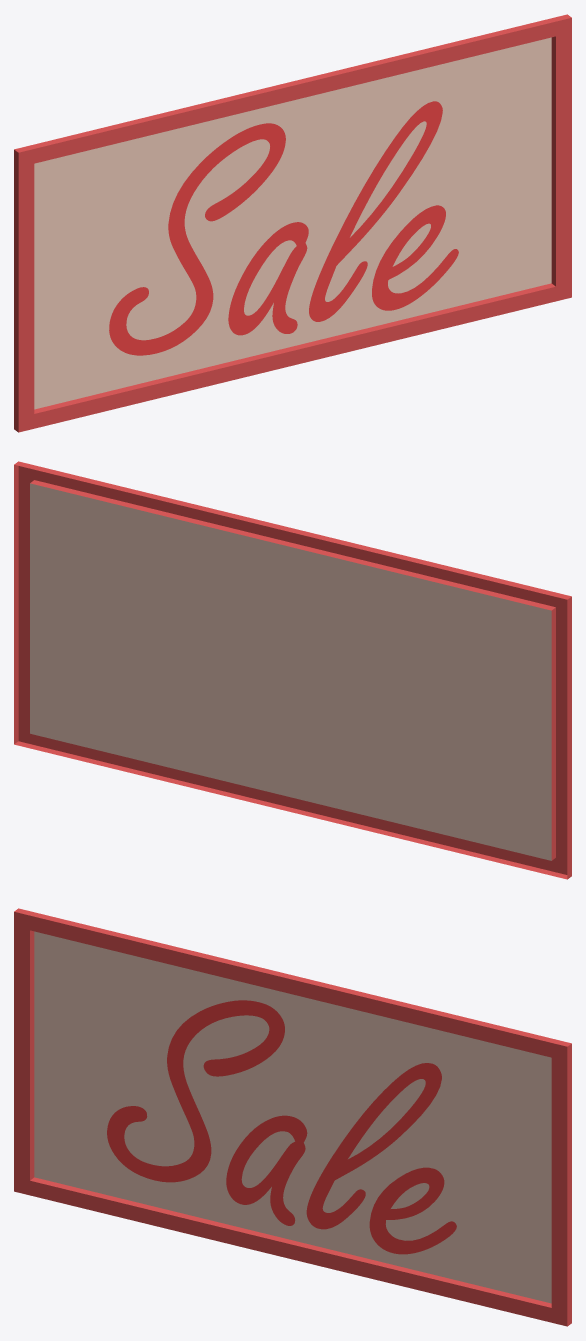
Rendered from Sign_Sale.fbx.
3 views of the same model, one above another, from view 1: azimuth 30°, elevation 25°; view 2: azimuth 150°, elevation 25°; view 3: azimuth 330°, elevation 25° (orthographic).
Parts seen in each view (by area): view 1: Sign_Sale; view 2: Sign_Sale; view 3: Sign_Sale.
Part boxes in pixels (bbox=[...]): Sign_Sale: bbox=[14, 14, 571, 432]; Sign_Sale: bbox=[14, 461, 571, 879]; Sign_Sale: bbox=[14, 908, 571, 1326].
Bounding box in the file's own units: 0.0253 × 1.78 × 0.8594.
